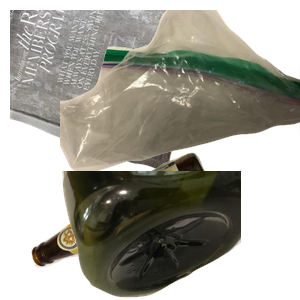glass: (29, 150, 238, 300)
paper: (10, 10, 222, 176)
plastic: (60, 171, 300, 300)
trash: (60, 10, 300, 176)
